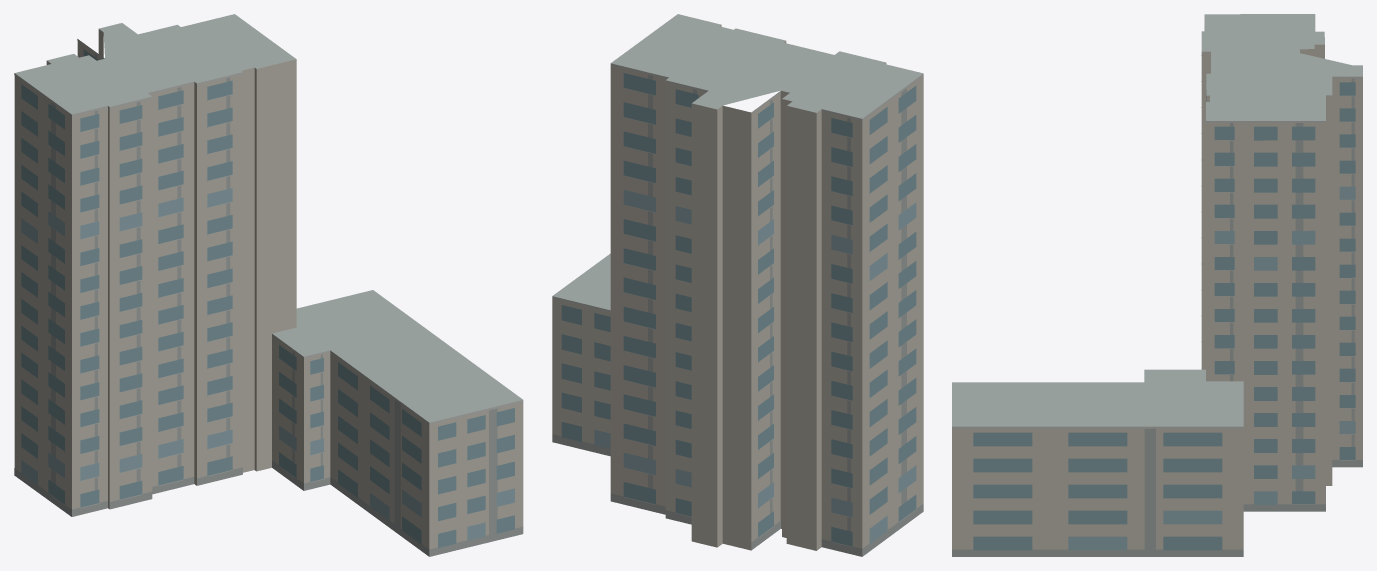
Rendered from residential-6d2d4022-f7d5-4c8a-b317-7a58cf53c4fd.glb.
3 views of the same model, side by side, from view 1: azimuth 30°, elevation 25°; view 2: azimuth 150°, elevation 25°; view 3: azimuth 270°, elevation 25° (orthographic). The views are drawn at different scales.
Visible parts, largest first — view 1: residential-6d2d4022-f7d5-4c8a-b317-7a58cf53c4fd.tmp; view 2: residential-6d2d4022-f7d5-4c8a-b317-7a58cf53c4fd.tmp; view 3: residential-6d2d4022-f7d5-4c8a-b317-7a58cf53c4fd.tmp.
Part boxes in pixels (x1,y1,x2,y2): residential-6d2d4022-f7d5-4c8a-b317-7a58cf53c4fd.tmp: (14, 14, 523, 556); residential-6d2d4022-f7d5-4c8a-b317-7a58cf53c4fd.tmp: (552, 14, 923, 556); residential-6d2d4022-f7d5-4c8a-b317-7a58cf53c4fd.tmp: (952, 14, 1362, 556).
Bounding box in the file's own units: 38.29 × 45.75 × 43.62.
